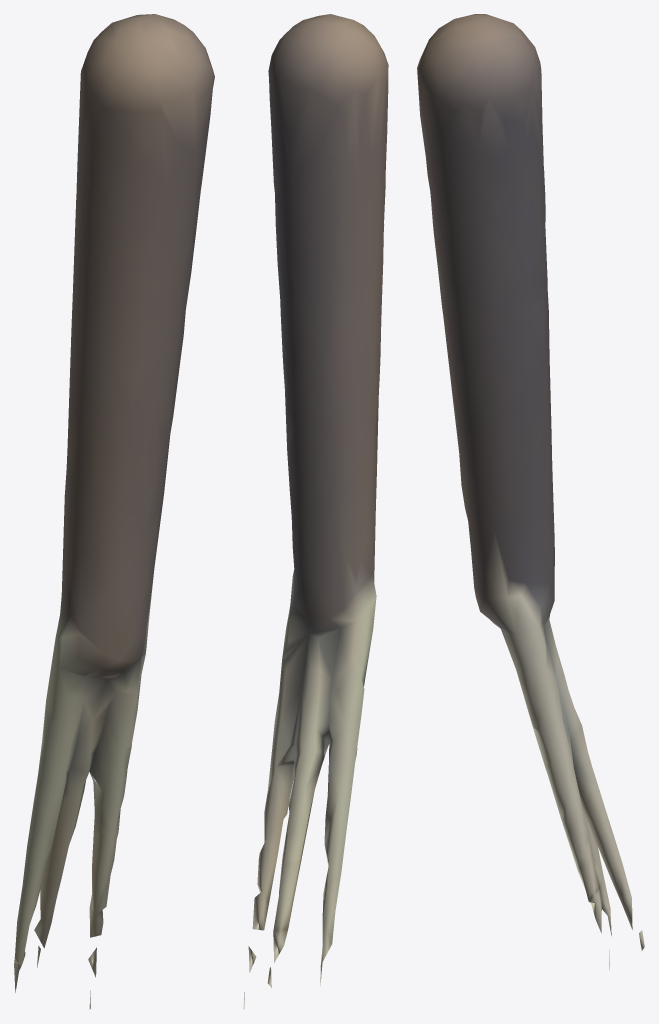
Rendered from husk_farm_l.glb.
3 renders of one model, left to right at view 1: azimuth 30°, elevation 25°; view 2: azimuth 150°, elevation 25°; view 3: azimuth 270°, elevation 25°, orthographic. The views are drawn at different scales.
Parts seen in each view (by area): view 1: geometry_0; view 2: geometry_0; view 3: geometry_0.
Part boxes in pixels (bbox=[...]): geometry_0: bbox=[14, 14, 214, 1009]; geometry_0: bbox=[243, 14, 388, 1009]; geometry_0: bbox=[417, 14, 644, 969].
Size of the model in its own units: 0.1547 by 1.21 by 0.2548.
